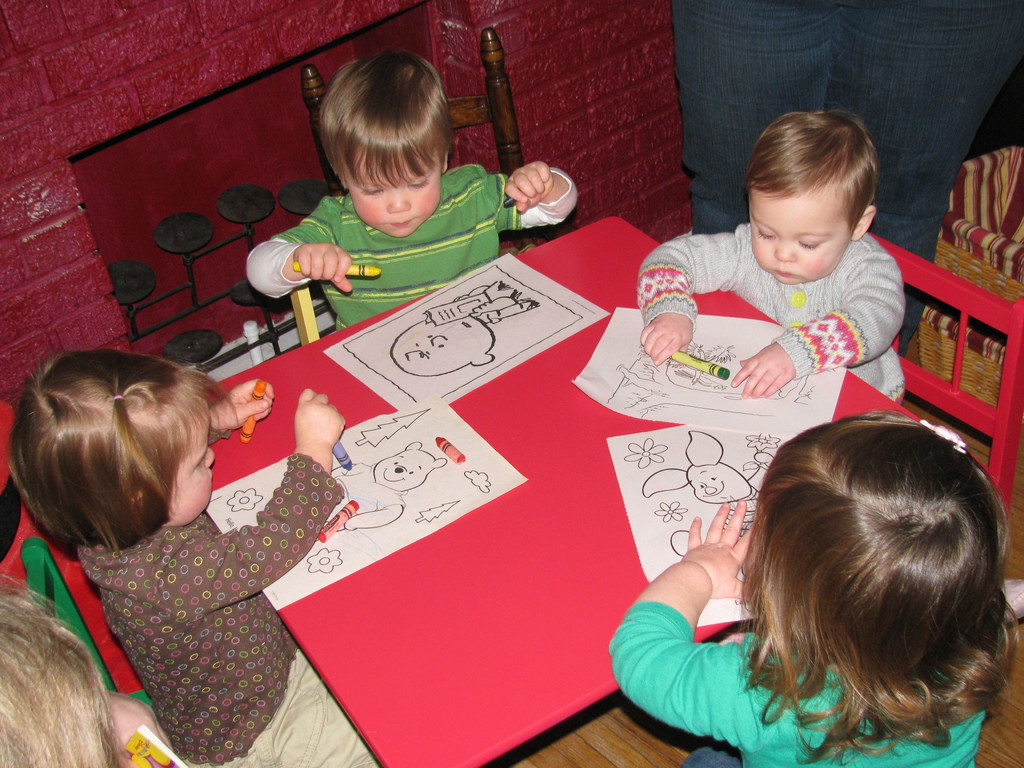Person: (10, 350, 390, 766), (608, 409, 1021, 768), (244, 50, 580, 333), (636, 110, 904, 398), (0, 578, 138, 767)
